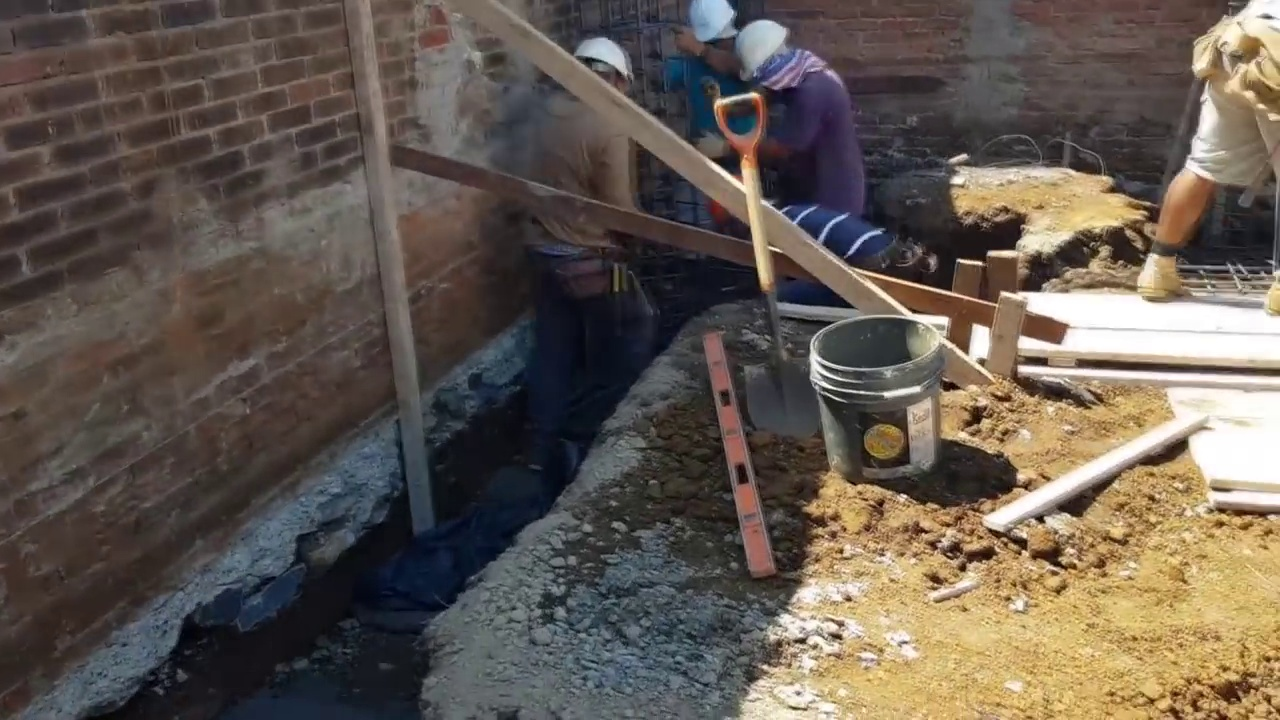helmet: (573, 32, 634, 82), (739, 13, 787, 75), (687, 1, 739, 45)
helmet-on: (737, 15, 814, 90), (560, 30, 633, 104), (687, 0, 739, 74)
person: (505, 29, 651, 467), (1142, 0, 1276, 313), (711, 184, 945, 314), (737, 13, 870, 217), (673, 0, 764, 178)
